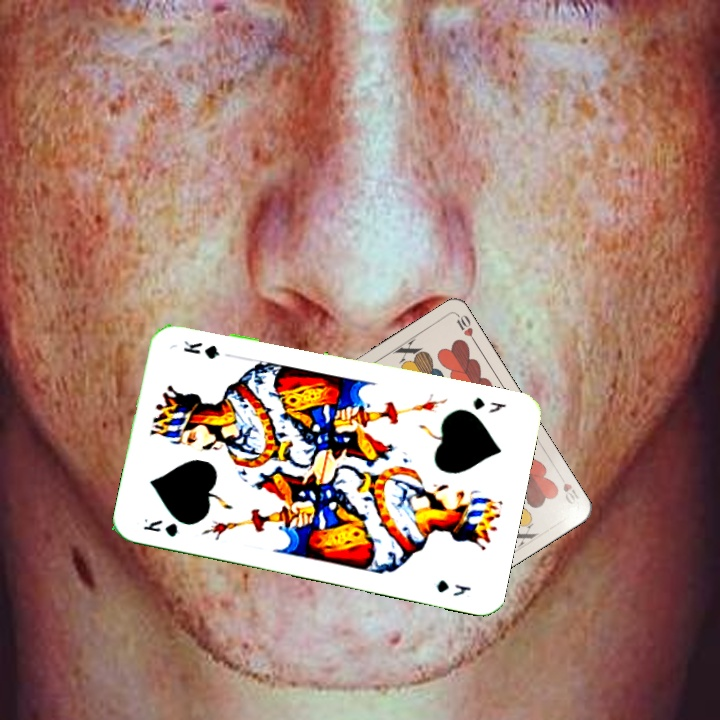GK: (140, 514, 181, 540), (469, 393, 509, 416)
H10: (554, 470, 582, 507)
